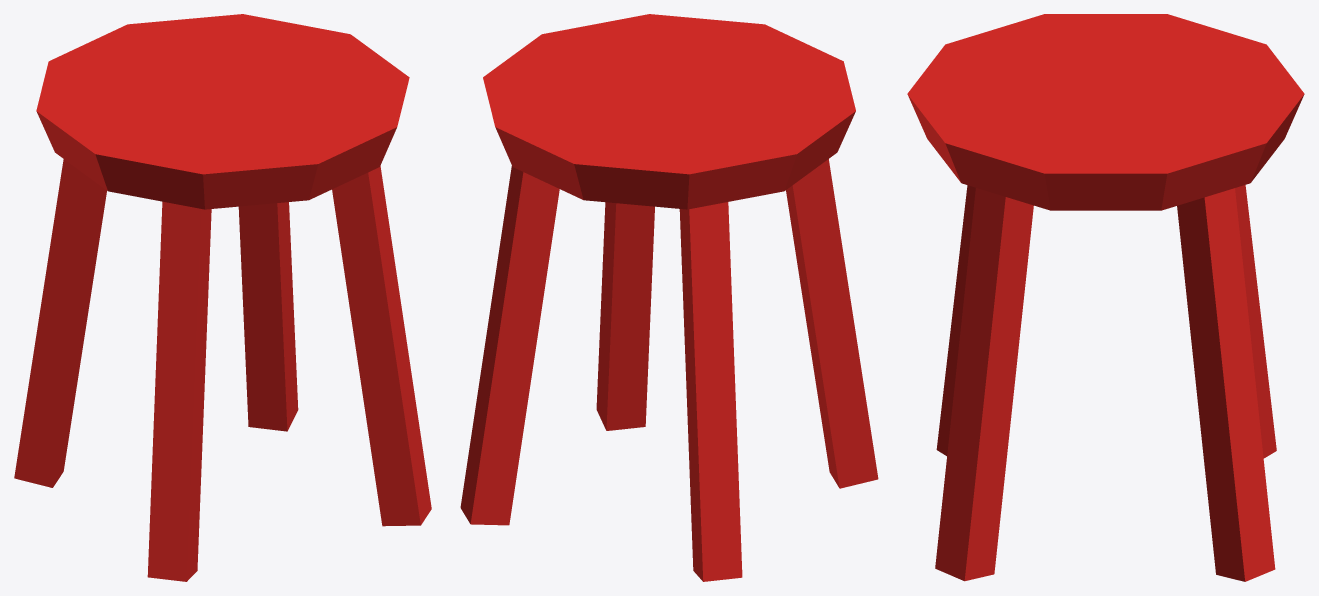
File: env_stool_red.fbx
The picture shows the model from 3 angles, left to right: view 1: azimuth 30°, elevation 25°; view 2: azimuth 150°, elevation 25°; view 3: azimuth 270°, elevation 25°; orthographic projection. The views are drawn at different scales.
Visible parts, largest first — view 1: env_stool_red_geo; view 2: env_stool_red_geo; view 3: env_stool_red_geo.
Part boxes in pixels (left/top/right/bottom): env_stool_red_geo: left=14, top=14, right=431, bottom=581; env_stool_red_geo: left=460, top=14, right=878, bottom=581; env_stool_red_geo: left=907, top=14, right=1304, bottom=581.
Bounding box in the file's own units: 0.3804 × 0.468 × 0.4.
